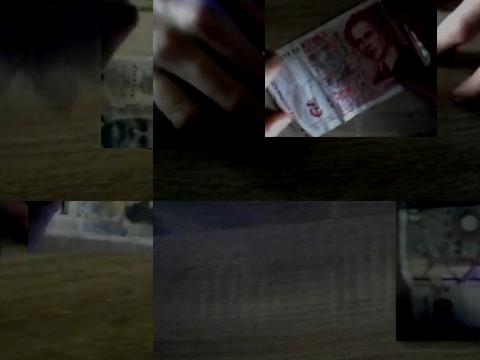10leva: (396, 201, 480, 332), (48, 201, 153, 244)
5leva: (265, 0, 437, 137)
